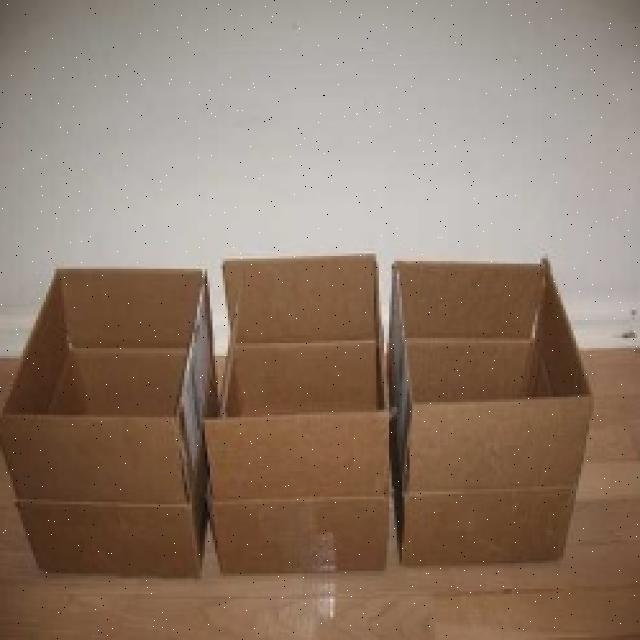box: (0, 230, 213, 570), (196, 244, 384, 568), (393, 261, 572, 566)
